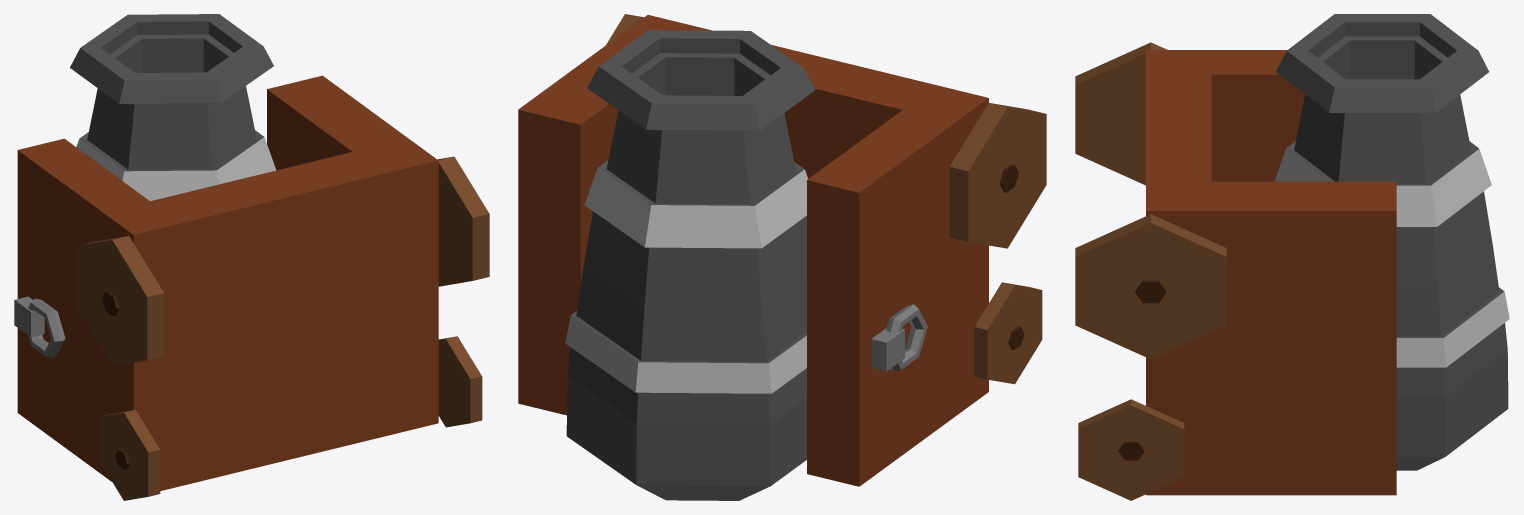
File: cannon_v2.fbx
3 renders of one model, left to right at view 1: azimuth 30°, elevation 25°; view 2: azimuth 150°, elevation 25°; view 3: azimuth 270°, elevation 25°, orthographic. The views are drawn at different scales.
Parts seen in each view (by area): view 1: Cylinder.004; view 2: Cylinder.004; view 3: Cylinder.004.
Part boxes in pixels (<box>): Cylinder.004: <box>14,14,489,500</box>; Cylinder.004: <box>518,14,1046,500</box>; Cylinder.004: <box>1075,14,1509,500</box>.
Bounding box in the file's own units: 100 × 100 × 100.
